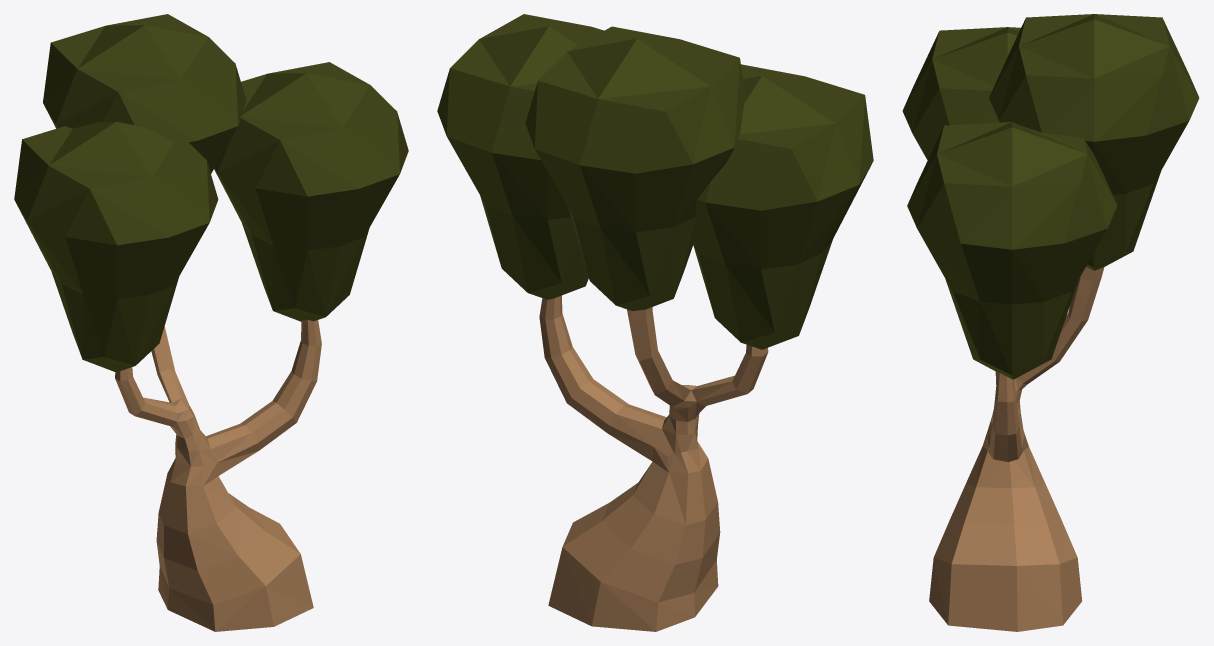
File: tree_solid_01a.fbx
The picture shows the model from 3 angles, left to right: view 1: azimuth 30°, elevation 25°; view 2: azimuth 150°, elevation 25°; view 3: azimuth 270°, elevation 25°; orthographic projection. The views are drawn at different scales.
Parts seen in each view (by area): view 1: tree_solid_01; view 2: tree_solid_01; view 3: tree_solid_01.
Part boxes in pixels (x1,y1,x2,y2): tree_solid_01: (14,14,408,631); tree_solid_01: (437,14,873,631); tree_solid_01: (902,14,1199,631).
Size of the model in its own units: 6.7 by 9.55 by 4.6.
